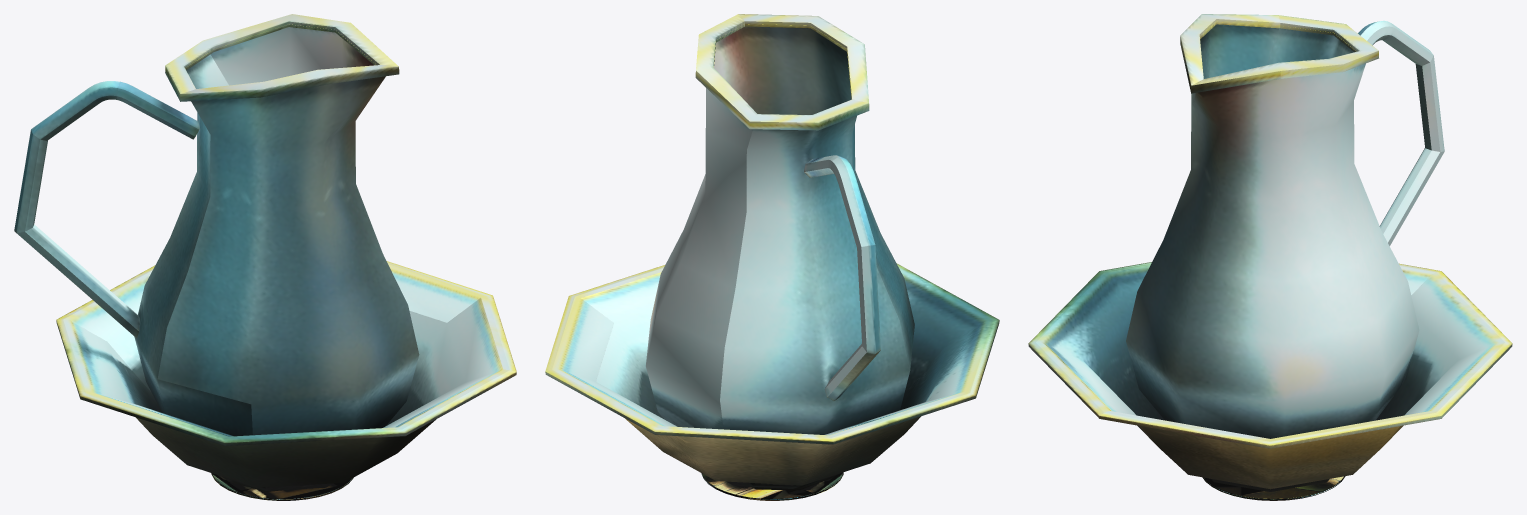
Rendered from jarro.fbx.
3 views of the same model, side by side, from view 1: azimuth 30°, elevation 25°; view 2: azimuth 150°, elevation 25°; view 3: azimuth 270°, elevation 25° (orthographic). The views are drawn at different scales.
Visible parts, largest first — view 1: Cylinder; view 2: Cylinder; view 3: Cylinder.
Part boxes in pixels (x1,y1,x2,y2): Cylinder: (14, 14, 516, 500); Cylinder: (545, 14, 999, 500); Cylinder: (1028, 14, 1512, 500).
Bounding box in the file's own units: 33.45 × 33.12 × 33.46.
